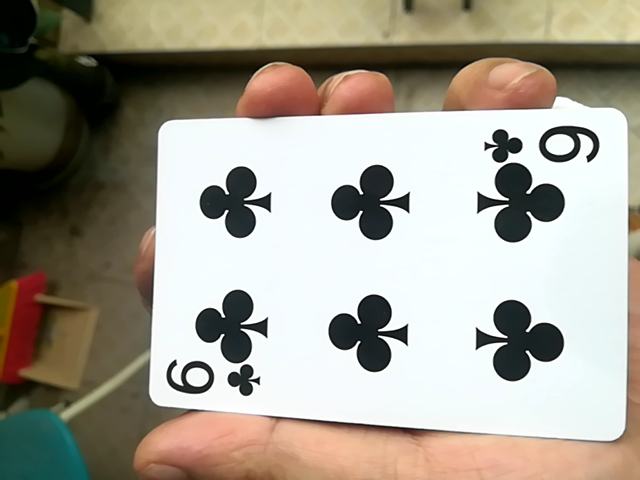mh 6: (138, 102, 625, 447)
